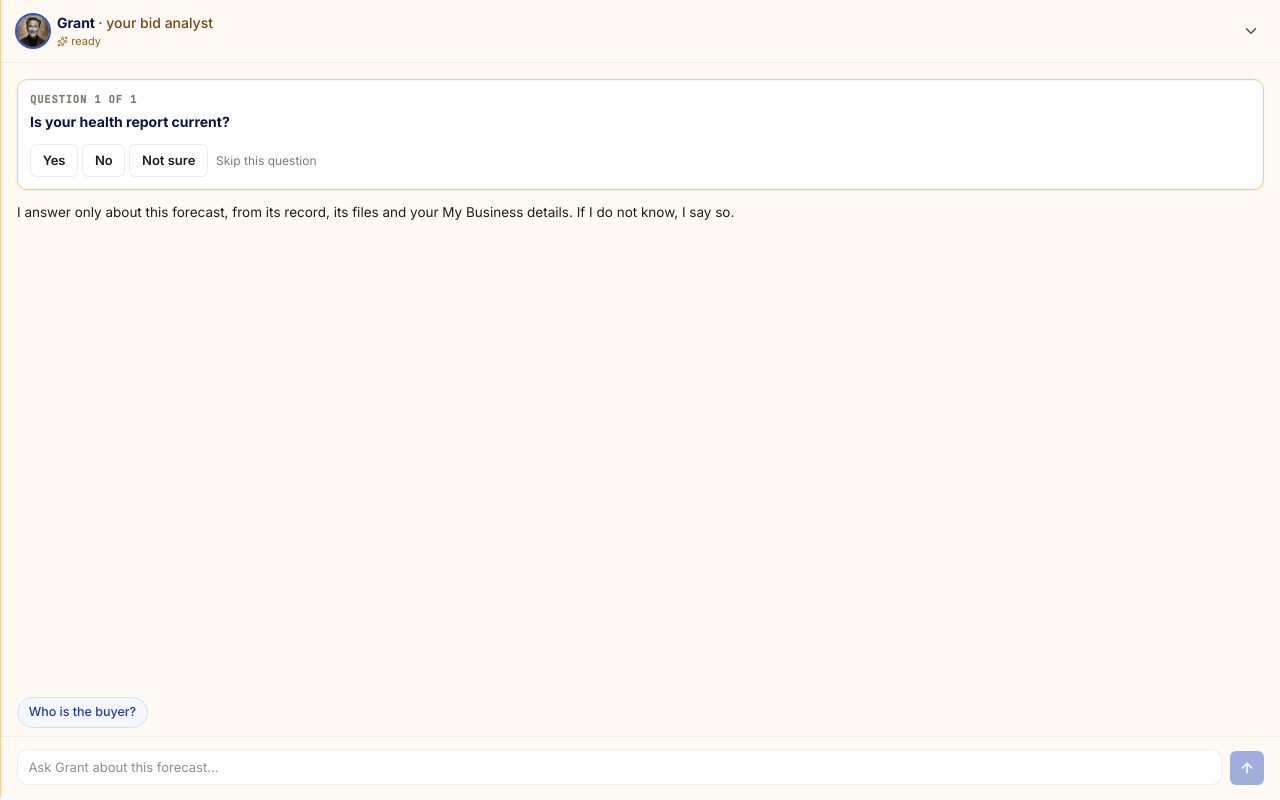
ForecastGrantRail — questions › changes an answer: the card shows the earlier answer, and only the latest can change
Click the button "Yes" at [54, 161], box x1=30 y1=144 x2=78 y2=178
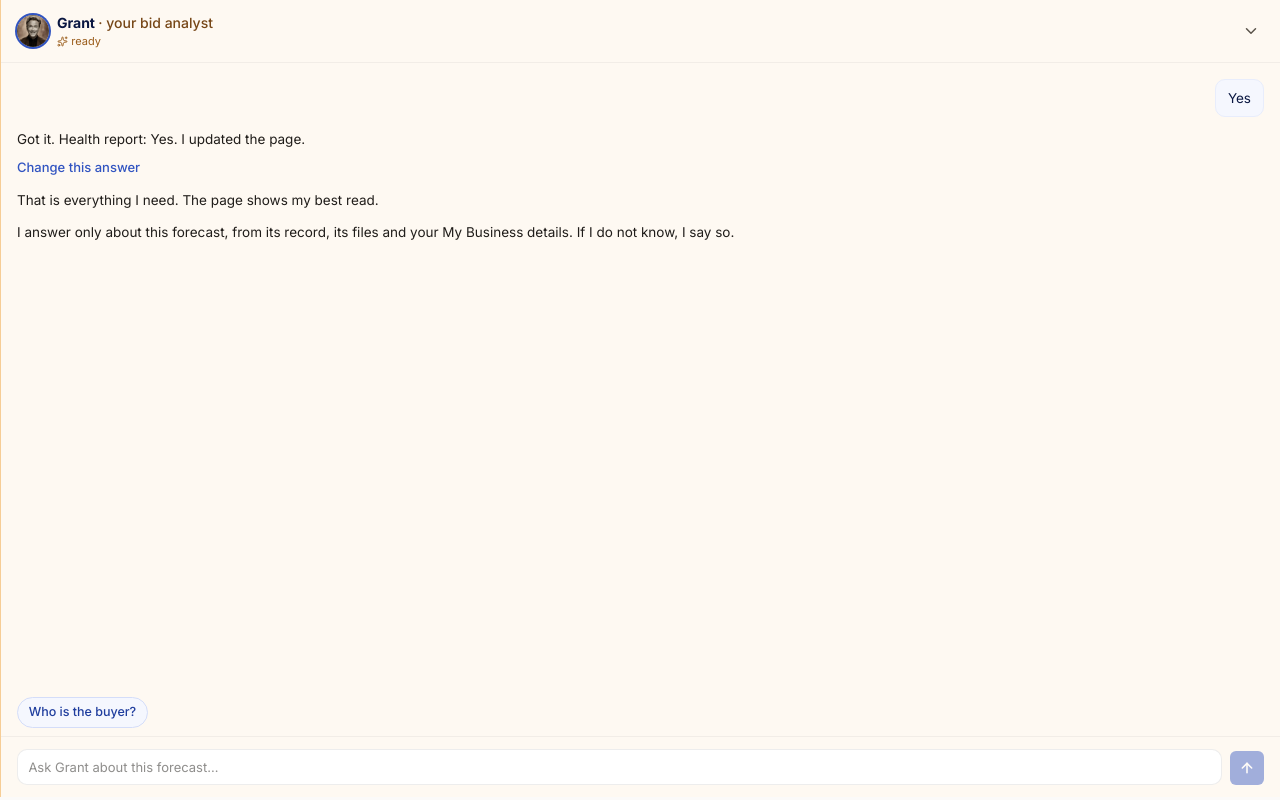
Click the button "Change this answer" at [79, 168], box x1=17 y1=158 x2=140 y2=178
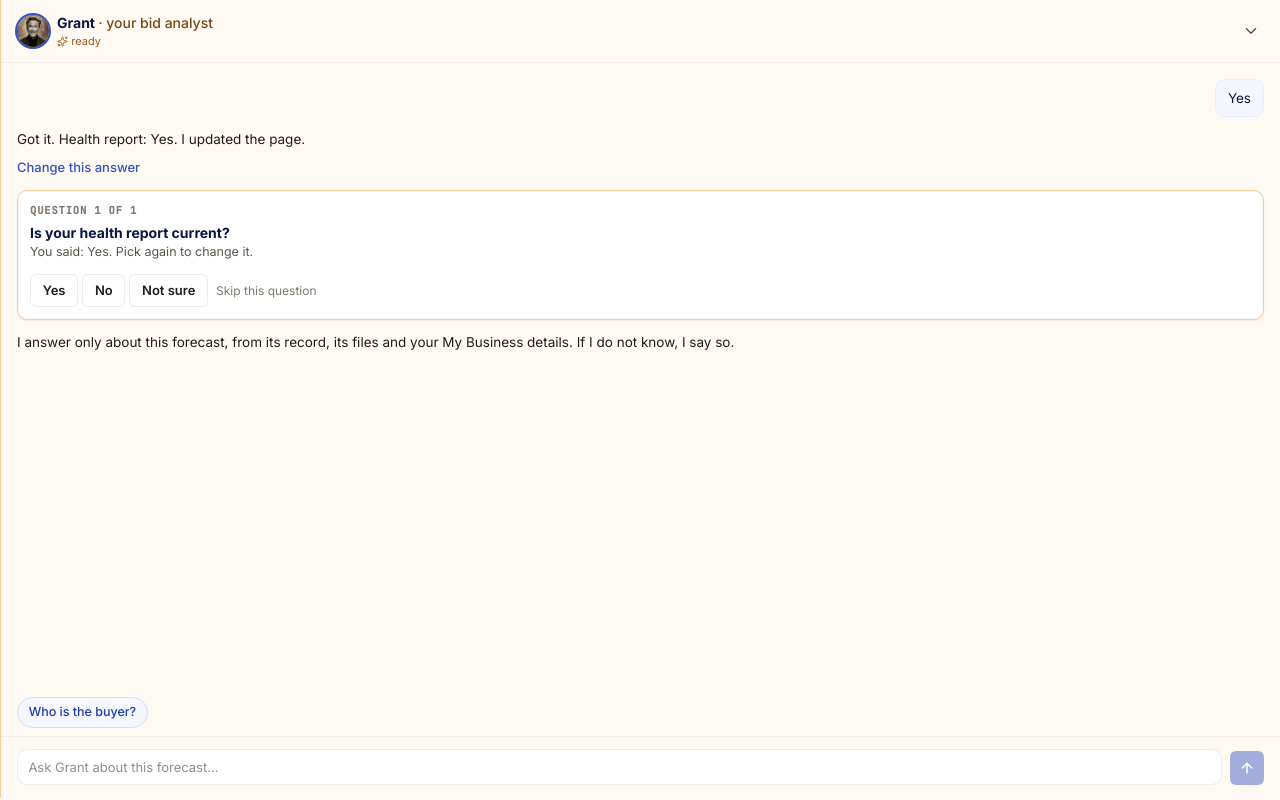
Click the button "No" at [104, 291], box x1=82 y1=274 x2=125 y2=307
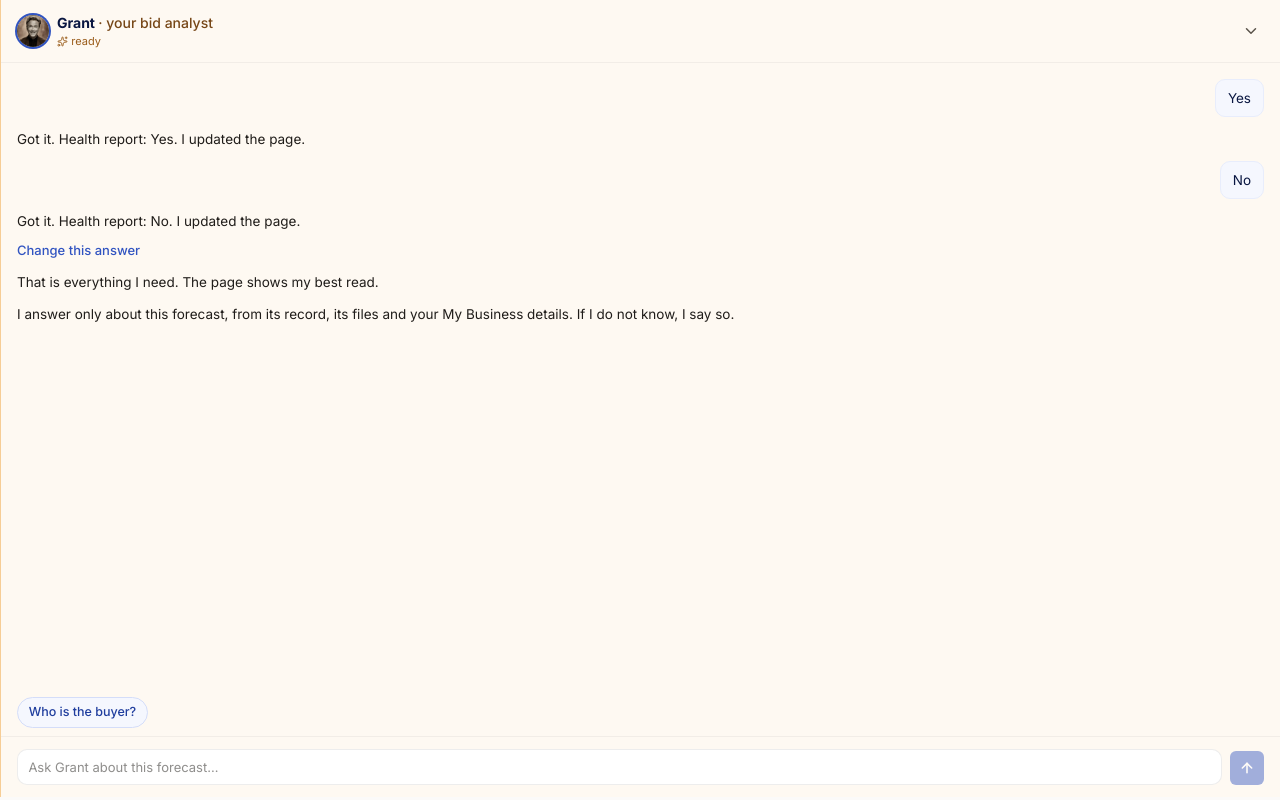
Now the number of buttons "Change this answer" is 1, box x1=17 y1=240 x2=140 y2=260
Now the text "That is everything I need. The page shows my best read." is shown, box x1=17 y1=274 x2=379 y2=290
